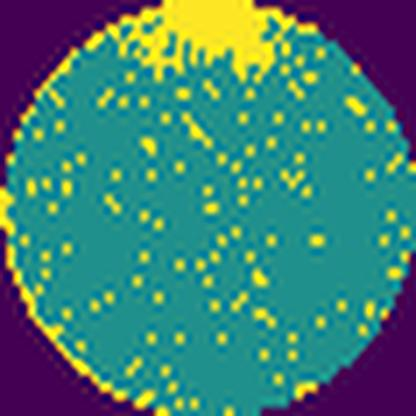Edge-Loc: (117, 0, 299, 85)
